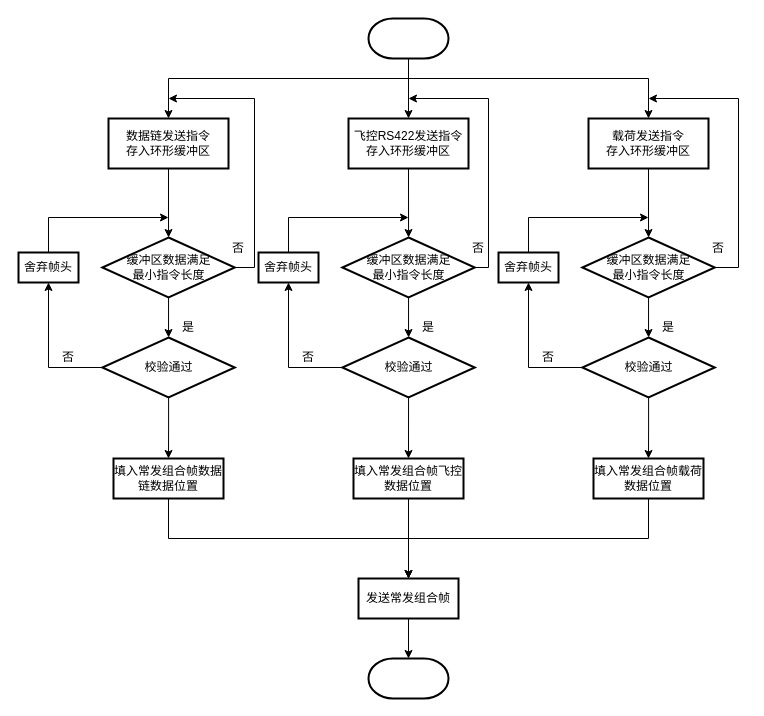
This 764x716 diagram has some shape labels left out. The centre of each missing label's shape, as x and y in pixels:
开始: point (408, 38)
结束: point (408, 678)
